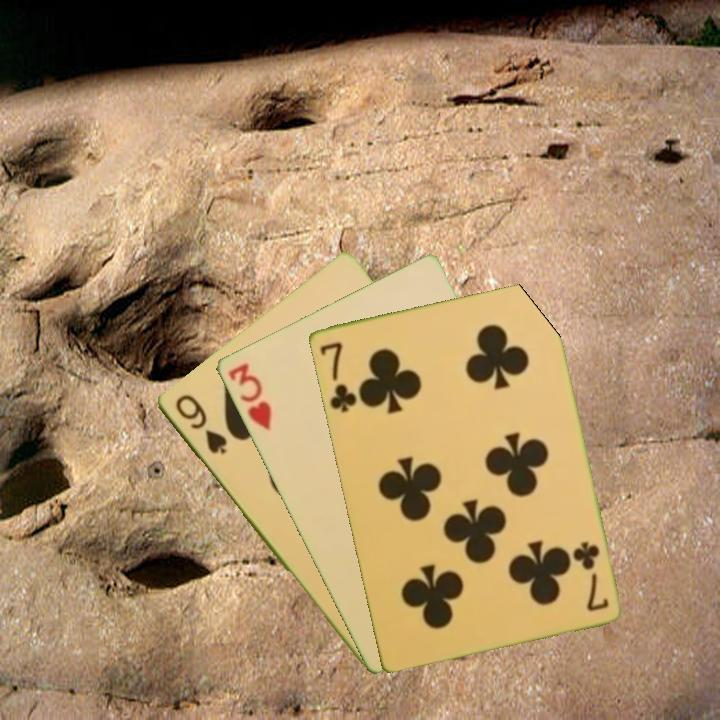3h: (223, 359, 274, 434)
7c: (316, 338, 359, 415), (569, 537, 611, 614)
9s: (171, 390, 230, 458)
